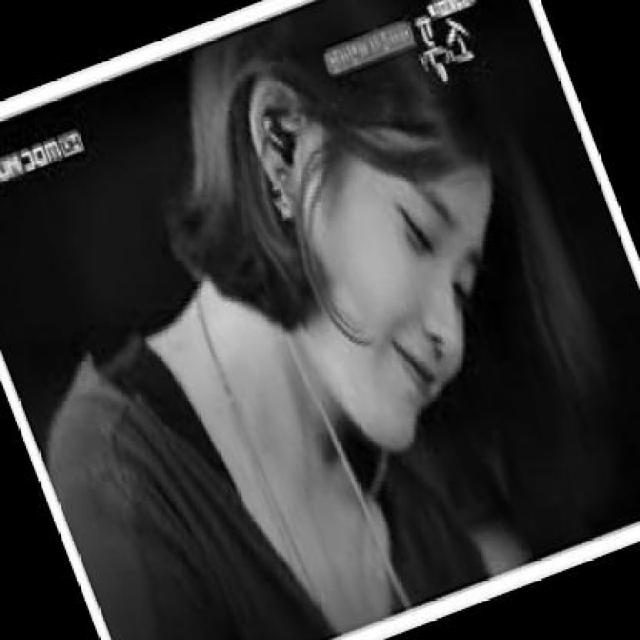earphone: (248, 109, 326, 170)
